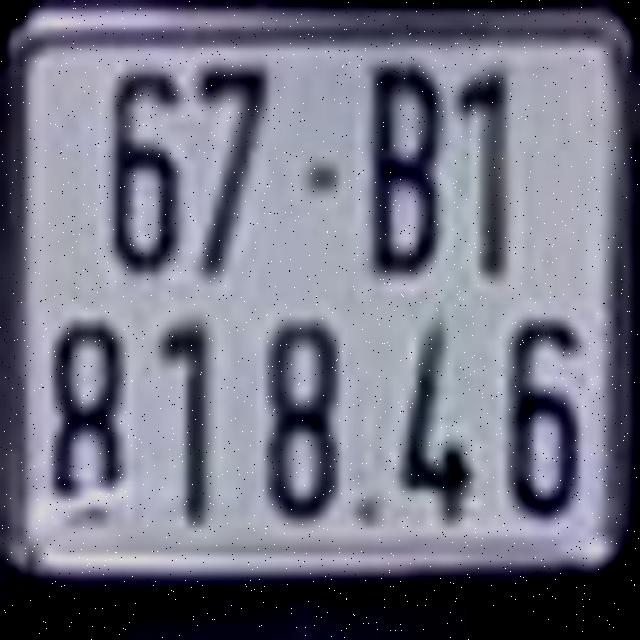1: (454, 57, 526, 281), (160, 318, 213, 526)
4: (394, 302, 480, 529)
6: (502, 301, 588, 521), (112, 66, 182, 272)
7: (193, 60, 270, 278)
8: (263, 313, 342, 522), (51, 319, 124, 515)
B: (362, 55, 447, 280)
